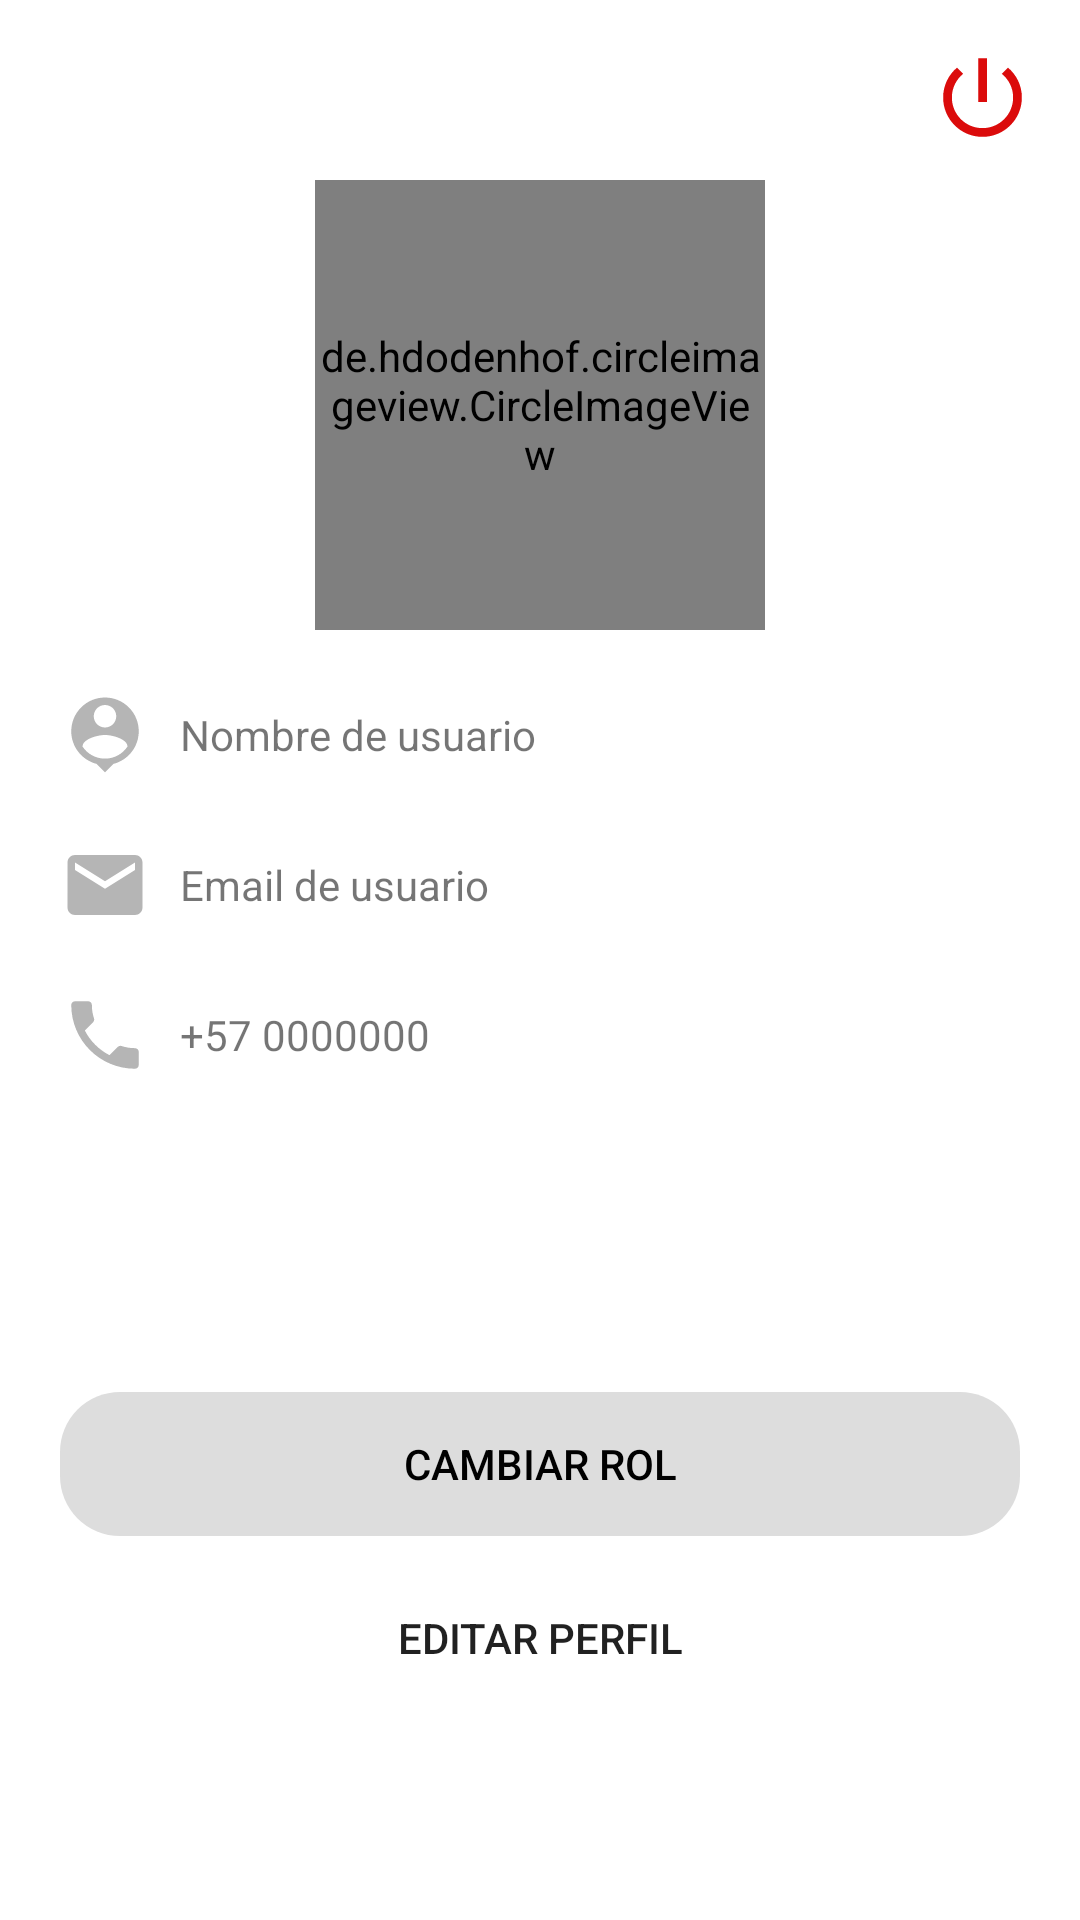

Named icons in this screenshot (1080x1920) and their bounding boxes, [x1=x1, y1=y1, x2=x2, y2=y2]:
person pin: [x1=71, y1=697, x2=139, y2=772]
phone: [x1=71, y1=1001, x2=139, y2=1069]
power: [x1=943, y1=58, x2=1022, y2=137]
